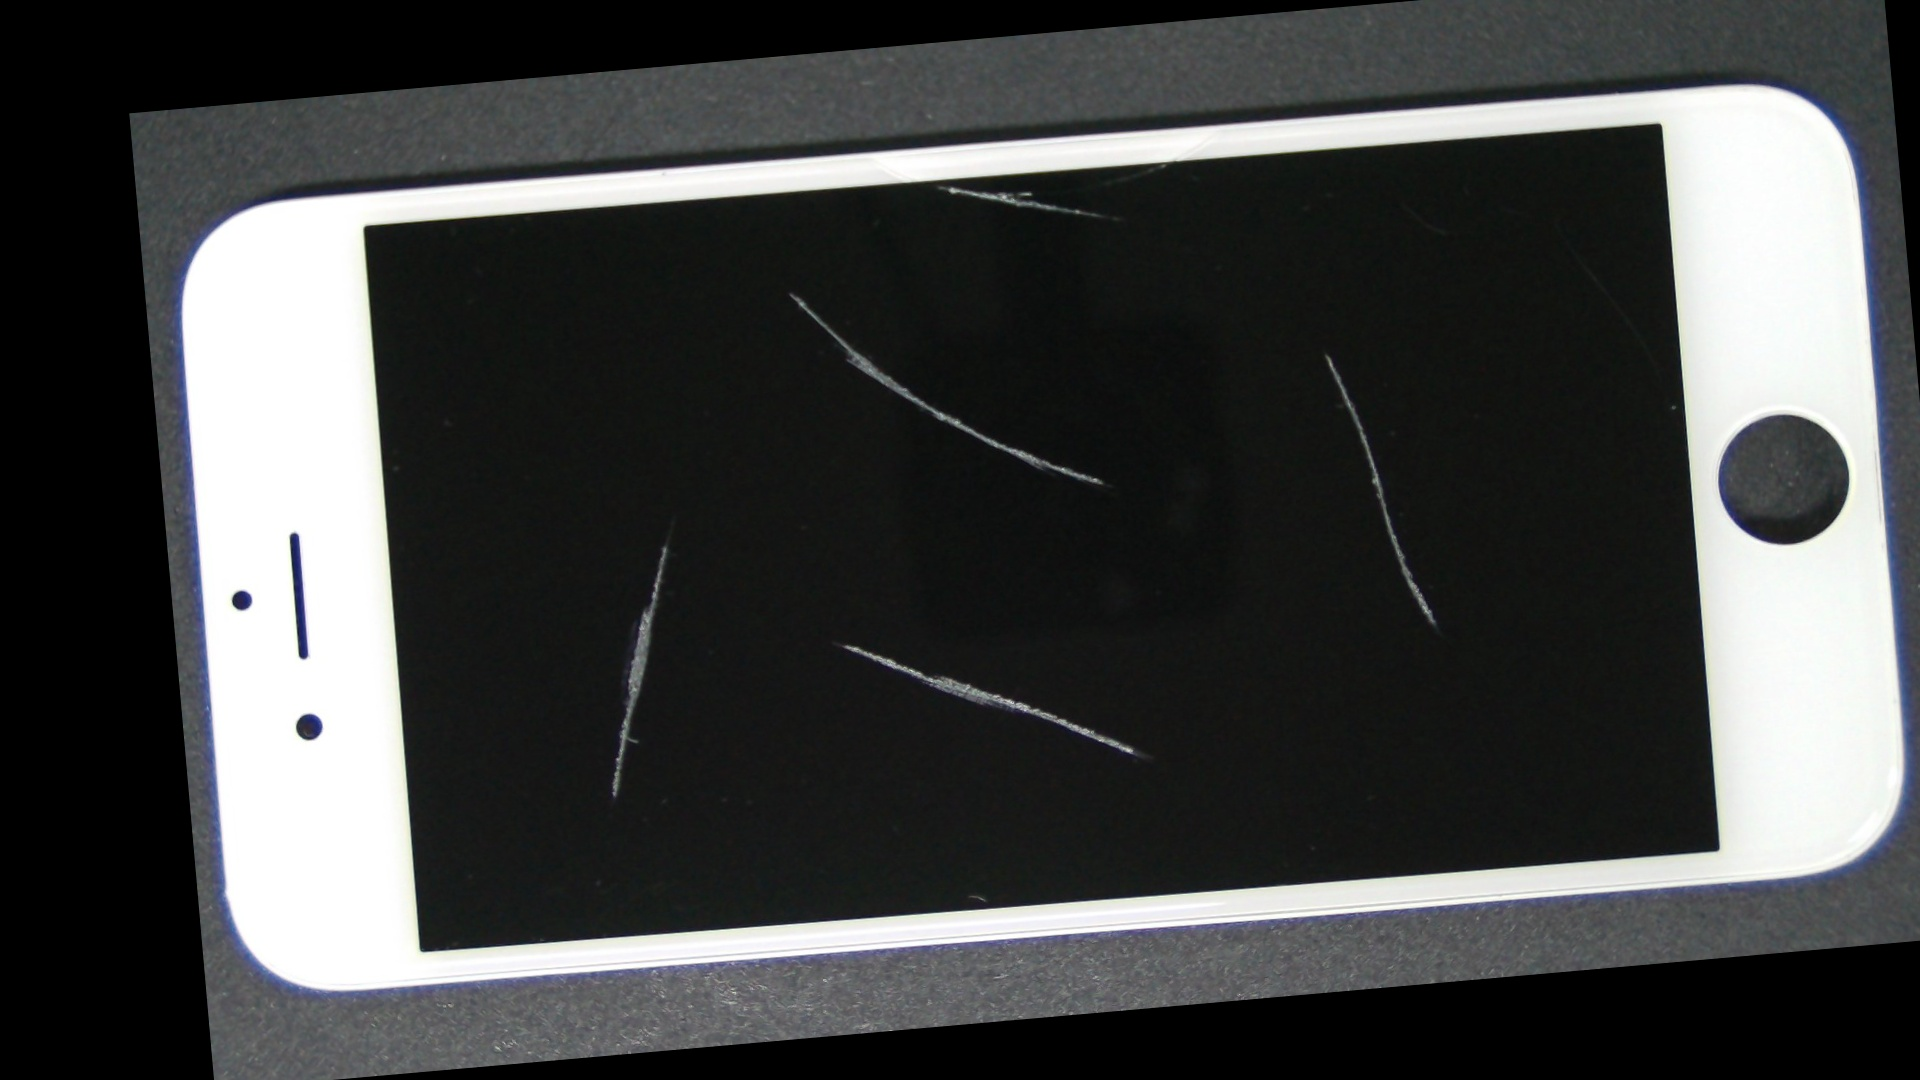oil: (727, 131, 1920, 576), (481, 319, 1187, 964), (398, 281, 936, 791), (460, 145, 1118, 436), (533, 79, 1341, 290)
